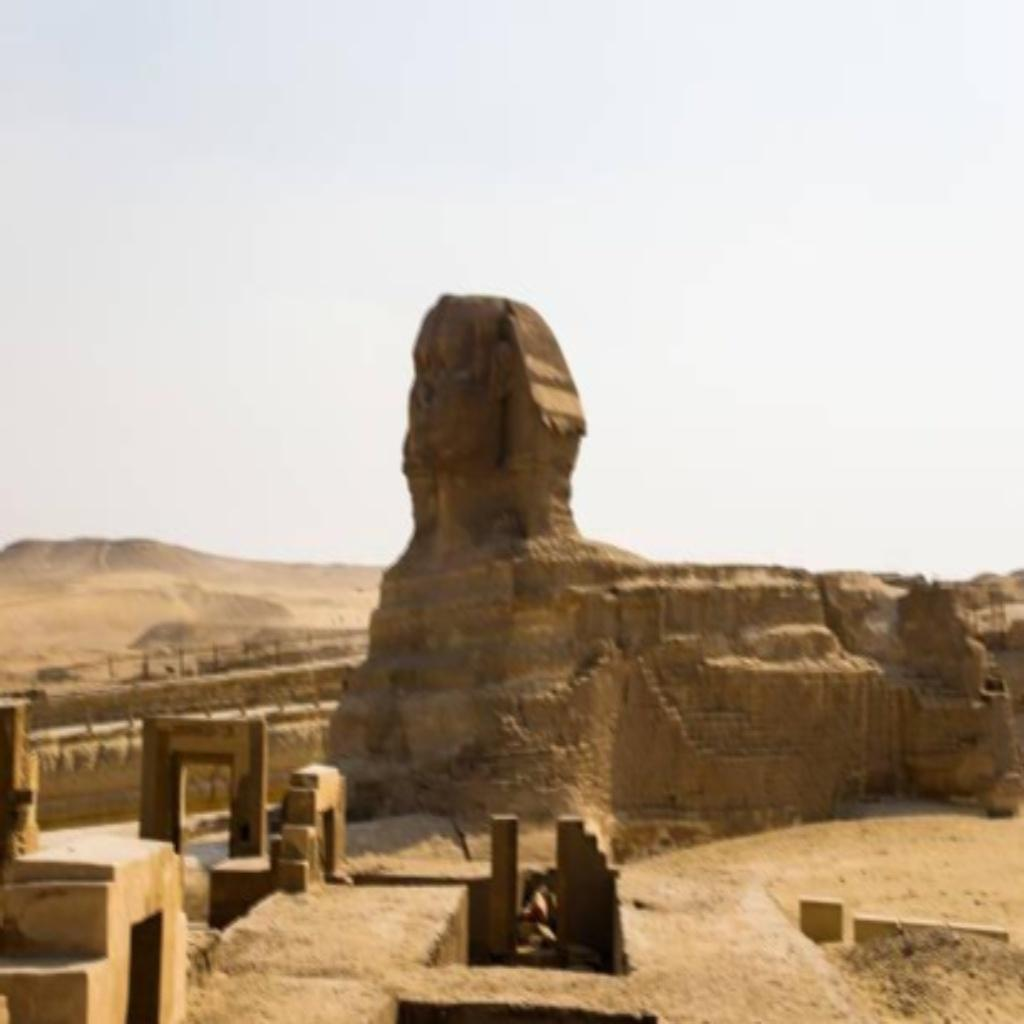Sphinx: (321, 286, 1019, 857)
